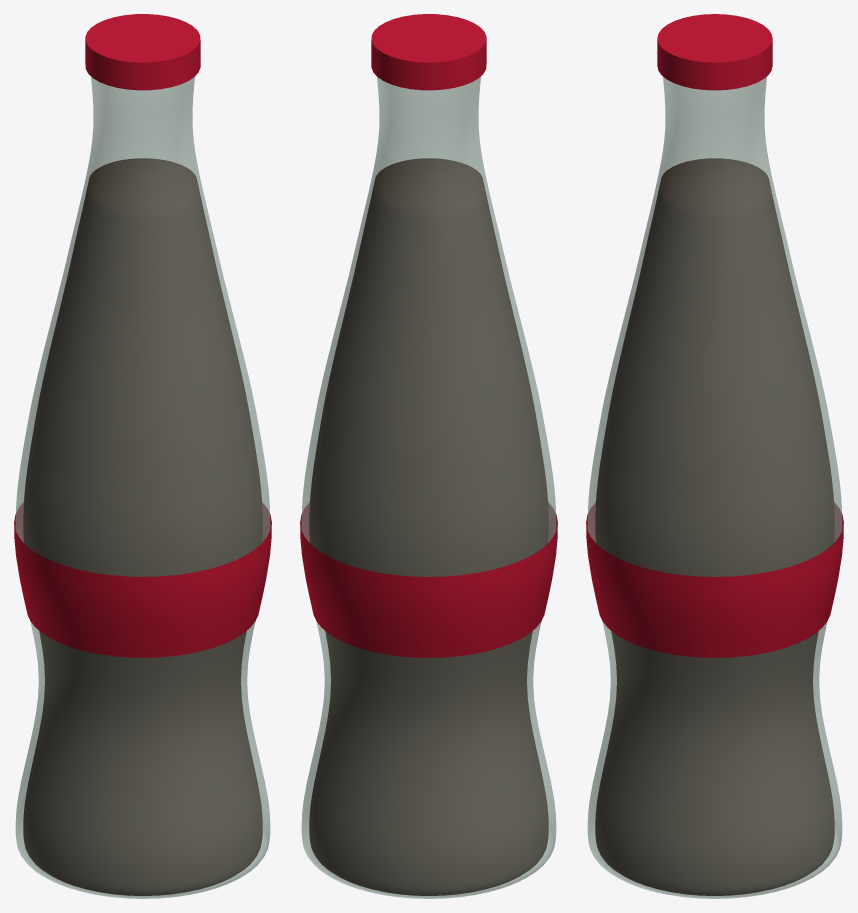
Rendered from coca-250.glb.
3 renders of one model, left to right at view 1: azimuth 30°, elevation 25°; view 2: azimuth 150°, elevation 25°; view 3: azimuth 270°, elevation 25°, orthographic.
Parts seen in each view (by area): view 1: vidrio, liquido, etiqueta, tapa; view 2: vidrio, liquido, etiqueta, tapa; view 3: vidrio, liquido, etiqueta, tapa.
Boxes of the visible parts, bbox=[...] form: vidrio: bbox=[15, 76, 270, 898]; liquido: bbox=[23, 158, 262, 895]; etiqueta: bbox=[14, 502, 271, 657]; tapa: bbox=[85, 14, 200, 90]; vidrio: bbox=[301, 76, 556, 898]; liquido: bbox=[309, 158, 548, 895]; etiqueta: bbox=[300, 502, 557, 657]; tapa: bbox=[371, 14, 486, 90]; vidrio: bbox=[587, 77, 842, 898]; liquido: bbox=[595, 158, 834, 895]; etiqueta: bbox=[586, 502, 843, 657]; tapa: bbox=[657, 14, 772, 90].
Size of the model in its own units: 0.0588 by 0.2061 by 0.0588.
